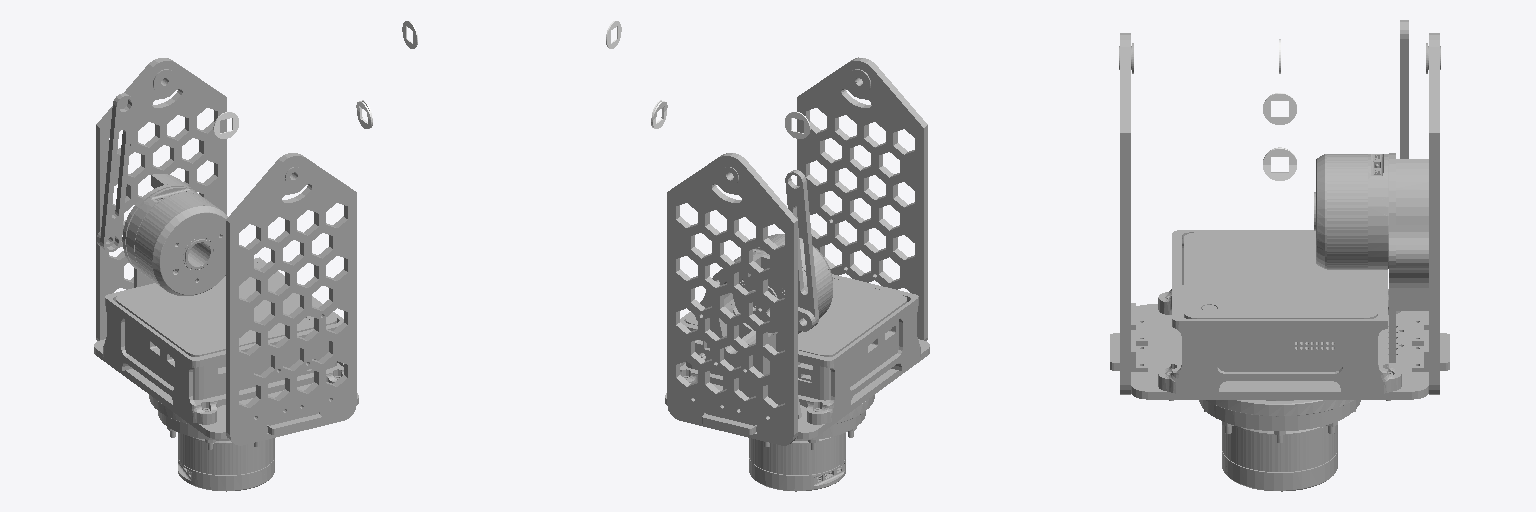
The robot description file, URDF, robot "infantry_description":
<?xml version="1.0" encoding="utf-8"?>
<!-- This URDF was automatically created by SolidWorks to URDF Exporter! Originally created by [author] ([email redacted]) 
     Commit Version: 1.6.0-4-g7f85cfe  Build Version: 1.6.7995.38578
     For more information, please see http://wiki.ros.org/sw_urdf_exporter -->
<robot
  name="infantry_description">
  <link
    name="base_link">
    <inertial>
      <origin
        xyz="-6.93889390390723E-18 0 0.0005"
        rpy="0 0 0" />
      <mass
        value="0.000214159265358979" />
      <inertia
        ixx="7.03849490608773E-09"
        ixy="-5.55380092342867E-27"
        ixz="4.11996825544492E-26"
        iyy="7.03849490608773E-09"
        iyz="-8.41197118045506E-41"
        izz="1.40412966012823E-08" />
    </inertial>
    <visual>
      <origin
        xyz="0 0 0"
        rpy="0 0 0" />
      <geometry>
        <mesh
          filename="package://infantry_description/meshes/base_link.STL" />
      </geometry>
      <material
        name="">
        <color
          rgba="1 1 1 1" />
      </material>
    </visual>
    <collision>
      <origin
        xyz="0 0 0"
        rpy="0 0 0" />
      <geometry>
        <mesh
          filename="package://infantry_description/meshes/base_link.STL" />
      </geometry>
    </collision>
  </link>
  <link
    name="yaw_link">
    <inertial>
      <origin
        xyz="-0.0015409082816932 0.00999125396951098 0.10260290642136"
        rpy="0 0 0" />
      <mass
        value="1.91332639377744" />
      <inertia
        ixx="0.00268848672792842"
        ixy="1.80918297044423E-06"
        ixz="-6.75948018407312E-06"
        iyy="0.00276471961071856"
        iyz="5.00668187927026E-07"
        izz="0.00278833399015975" />
    </inertial>
    <visual>
      <origin
        xyz="0 0 0"
        rpy="0 0 0" />
      <geometry>
        <mesh
          filename="package://infantry_description/meshes/yaw_link.STL" />
      </geometry>
      <material
        name="">
        <color
          rgba="0.752941176470588 0.752941176470588 0.752941176470588 1" />
      </material>
    </visual>
    <collision>
      <origin
        xyz="0 0 0"
        rpy="0 0 0" />
      <geometry>
        <mesh
          filename="package://infantry_description/meshes/yaw_link.STL" />
      </geometry>
    </collision>
  </link>
  <joint
    name="yaw_joint"
    type="continuous">
    <origin
      xyz="0 0 0"
      rpy="0 0 0" />
    <parent
      link="base_link" />
    <child
      link="yaw_link" />
    <axis
      xyz="0 0 1" />
  </joint>
  <link
    name="pitch_link">
    <inertial>
      <origin
        xyz="0.0149862371101792 -0.00120883208993475 -0.00170840433382585"
        rpy="0 0 0" />
      <mass
        value="2.39606923058523" />
      <inertia
        ixx="0.00143255596030058"
        ixy="5.88811746746134E-06"
        ixz="-7.83000829369304E-06"
        iyy="0.00189602115107173"
        iyz="-5.69030882301903E-06"
        izz="0.00278169180483301" />
    </inertial>
    <visual>
      <origin
        xyz="0 0 0"
        rpy="0 0 0" />
      <geometry>
        <mesh
          filename="package://infantry_description/meshes/pitch_link.STL" />
      </geometry>
      <material
        name="">
        <color
          rgba="0.752941176470588 0.752941176470588 0.752941176470588 1" />
      </material>
    </visual>
    <collision>
      <origin
        xyz="0 0 0"
        rpy="0 0 0" />
      <geometry>
        <mesh
          filename="package://infantry_description/meshes/pitch_link.STL" />
      </geometry>
    </collision>
  </link>
  <joint
    name="pitch_joint"
    type="revolute">
    <origin
      xyz="0 0 0.2615"
      rpy="0 0 0" />
    <parent
      link="yaw_link" />
    <child
      link="pitch_link" />
    <axis
      xyz="0 1 0" />
    <limit
      lower="-0.5"
      upper="0.5"
      effort="0"
      velocity="0" />
  </joint>
  <link
    name="shoot_pitch_link">
    <inertial>
      <origin
        xyz="-0.000499999999819839 2.4980018054066E-16 1.62370117351429E-14"
        rpy="0 0 0" />
      <mass
        value="0.000214159265358979" />
      <inertia
        ixx="1.40412966012823E-08"
        ixy="-3.62053503112053E-24"
        ixz="-3.10192729707385E-25"
        iyy="7.03849490608773E-09"
        iyz="9.74662238197405E-25"
        izz="7.03849490608773E-09" />
    </inertial>
    <visual>
      <origin
        xyz="0 0 0"
        rpy="0 0 0" />
      <geometry>
        <mesh
          filename="package://infantry_description/meshes/shoot_pitch_link.STL" />
      </geometry>
      <material
        name="">
        <color
          rgba="1 1 1 1" />
      </material>
    </visual>
    <collision>
      <origin
        xyz="0 0 0"
        rpy="0 0 0" />
      <geometry>
        <mesh
          filename="package://infantry_description/meshes/shoot_pitch_link.STL" />
      </geometry>
    </collision>
  </link>
  <joint
    name="shoot_pitch_joint"
    type="fixed">
    <origin
      xyz="0.10965 0 -0.01635"
      rpy="0 0 0" />
    <parent
      link="pitch_link" />
    <child
      link="shoot_pitch_link" />
    <axis
      xyz="0 0 0" />
  </joint>
  <link
    name="shoot_yaw_link">
    <inertial>
      <origin
        xyz="-0.000492470307195091 2.35922392732846E-16 -8.6446494151099E-05"
        rpy="0 0 0" />
      <mass
        value="0.000214159265358979" />
      <inertia
        ixx="1.38319689549938E-08"
        ixy="-5.35554710793762E-24"
        ixz="1.19250238271444E-09"
        iyy="7.03849490608772E-09"
        iyz="4.94706924244738E-26"
        izz="7.24782255237625E-09" />
    </inertial>
    <visual>
      <origin
        xyz="0 0 0"
        rpy="0 0 0" />
      <geometry>
        <mesh
          filename="package://infantry_description/meshes/shoot_yaw_link.STL" />
      </geometry>
      <material
        name="">
        <color
          rgba="1 1 1 1" />
      </material>
    </visual>
    <collision>
      <origin
        xyz="0 0 0"
        rpy="0 0 0" />
      <geometry>
        <mesh
          filename="package://infantry_description/meshes/shoot_yaw_link.STL" />
      </geometry>
    </collision>
  </link>
  <joint
    name="shoot_yaw_joint"
    type="revolute">
    <origin
      xyz="0.10965 0 -0.01635"
      rpy="0 0 0" />
    <parent
      link="pitch_link" />
    <child
      link="shoot_yaw_link" />
    <axis
      xyz="0 -1 0" />
    <limit
      lower="-0.5"
      upper="0.5"
      effort="0"
      velocity="0" />
  </joint>
  <link
    name="camera_link">
    <inertial>
      <origin
        xyz="-0.000500000000136308 5.96744875736022E-16 -1.78468351208494E-14"
        rpy="0 0 0" />
      <mass
        value="0.000214159265358979" />
      <inertia
        ixx="1.40412966012823E-08"
        ixy="1.29301542038772E-23"
        ixz="5.5524498617622E-23"
        iyy="7.03849490608772E-09"
        iyz="1.36020622296996E-24"
        izz="7.03849490608771E-09" />
    </inertial>
    <visual>
      <origin
        xyz="0 0 0"
        rpy="0 0 0" />
      <geometry>
        <mesh
          filename="package://infantry_description/meshes/camera_link.STL" />
      </geometry>
      <material
        name="">
        <color
          rgba="1 1 1 1" />
      </material>
    </visual>
    <collision>
      <origin
        xyz="0 0 0"
        rpy="0 0 0" />
      <geometry>
        <mesh
          filename="package://infantry_description/meshes/camera_link.STL" />
      </geometry>
    </collision>
  </link>
  <joint
    name="camera_joint"
    type="fixed">
    <origin
      xyz="0.1457 0 0.0355"
      rpy="0 0 0" />
    <parent
      link="pitch_link" />
    <child
      link="camera_link" />
    <axis
      xyz="0 0 0" />
  </joint>
  <link
    name="camera_optical_link">
    <inertial>
      <origin
        xyz="-5.96744875736022E-16 -1.59150470580016E-13 -0.000500000000002429"
        rpy="0 0 0" />
      <mass
        value="0.000214159265358978" />
      <inertia
        ixx="7.03849490608772E-09"
        ixy="8.44410651391703E-26"
        ixz="-1.66189374182418E-23"
        iyy="7.03849490608771E-09"
        iyz="-7.50128738493713E-21"
        izz="1.40412966012823E-08" />
    </inertial>
    <visual>
      <origin
        xyz="0 0 0"
        rpy="0 0 0" />
      <geometry>
        <mesh
          filename="package://infantry_description/meshes/camera_optical_link.STL" />
      </geometry>
      <material
        name="">
        <color
          rgba="1 1 1 1" />
      </material>
    </visual>
    <collision>
      <origin
        xyz="0 0 0"
        rpy="0 0 0" />
      <geometry>
        <mesh
          filename="package://infantry_description/meshes/camera_optical_link.STL" />
      </geometry>
    </collision>
  </link>
  <joint
    name="camera_optical_joint"
    type="fixed">
    <origin
      xyz="0 0 0"
      rpy="-1.5708 0 -1.5708" />
    <parent
      link="camera_link" />
    <child
      link="camera_optical_link" />
    <axis
      xyz="0 0 0" />
  </joint>
  <link
    name="gimbal_odom">
    <inertial>
      <origin
        xyz="-6.93889390390723E-18 0 0"
        rpy="0 0 0" />
      <mass
        value="0.000214159265358979" />
      <inertia
        ixx="7.03849490608773E-09"
        ixy="-1.85702242057616E-25"
        ixz="-1.46943916164178E-25"
        iyy="1.40412966012823E-08"
        iyz="9.52323787228069E-24"
        izz="7.03849490608773E-09" />
    </inertial>
    <visual>
      <origin
        xyz="0 0 0"
        rpy="0 0 0" />
      <geometry>
        <mesh
          filename="package://infantry_description/meshes/gimbal_odom.STL" />
      </geometry>
      <material
        name="">
        <color
          rgba="1 1 1 1" />
      </material>
    </visual>
    <collision>
      <origin
        xyz="0 0 0"
        rpy="0 0 0" />
      <geometry>
        <mesh
          filename="package://infantry_description/meshes/gimbal_odom.STL" />
      </geometry>
    </collision>
  </link>
  <joint
    name="gimbal_joint"
    type="fixed">
    <origin
      xyz="0 0 0.2625"
      rpy="0 0 0" />
    <parent
      link="base_link" />
    <child
      link="gimbal_odom" />
    <axis
      xyz="0 0 0" />
  </joint>
</robot>

--- What the picture shows (computed from the rendered views, not written in the file) ---
Views: 3 orthographic renders of the robot side by side, from view 1: azimuth 30°, elevation 25°; view 2: azimuth 150°, elevation 25°; view 3: azimuth 270°, elevation 25°.
Robot: infantry_description — 8 links, 7 joints (2 revolute, 1 continuous, 4 fixed); root link base_link; default pose: every joint at zero.
Visible links, largest first — view 1: yaw_link; view 2: yaw_link; view 3: yaw_link.
Link boxes in pixels (<box>): yaw_link: <box>94,58,358,491</box>; yaw_link: <box>665,57,929,491</box>; yaw_link: <box>1110,20,1449,491</box>.
Size in the robot's own frame: 0.2077 by 0.1956 by 0.311 metres.
7 mesh visuals loaded from 8 distinct referenced files (7 binary STL); not drawn: 1 (reference not matched to a file when rendering).